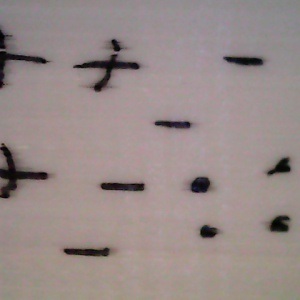3dpdot: (262, 150, 294, 186), (185, 172, 220, 202), (191, 218, 230, 243), (264, 205, 294, 236)
3dpminus: (60, 237, 121, 275), (99, 176, 155, 207), (220, 50, 269, 82), (150, 110, 202, 140)
3dpplus: (1, 23, 55, 102), (79, 39, 145, 95), (2, 138, 50, 203)
